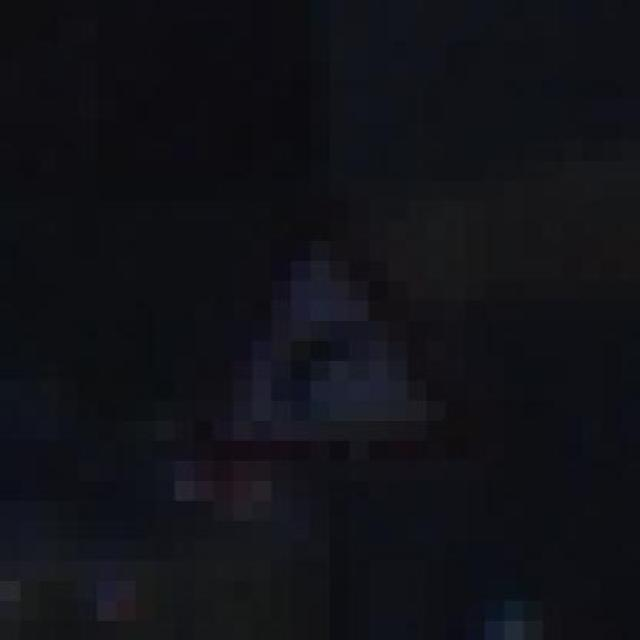Dangerous Rright Curve Ahead: (156, 152, 504, 512)
